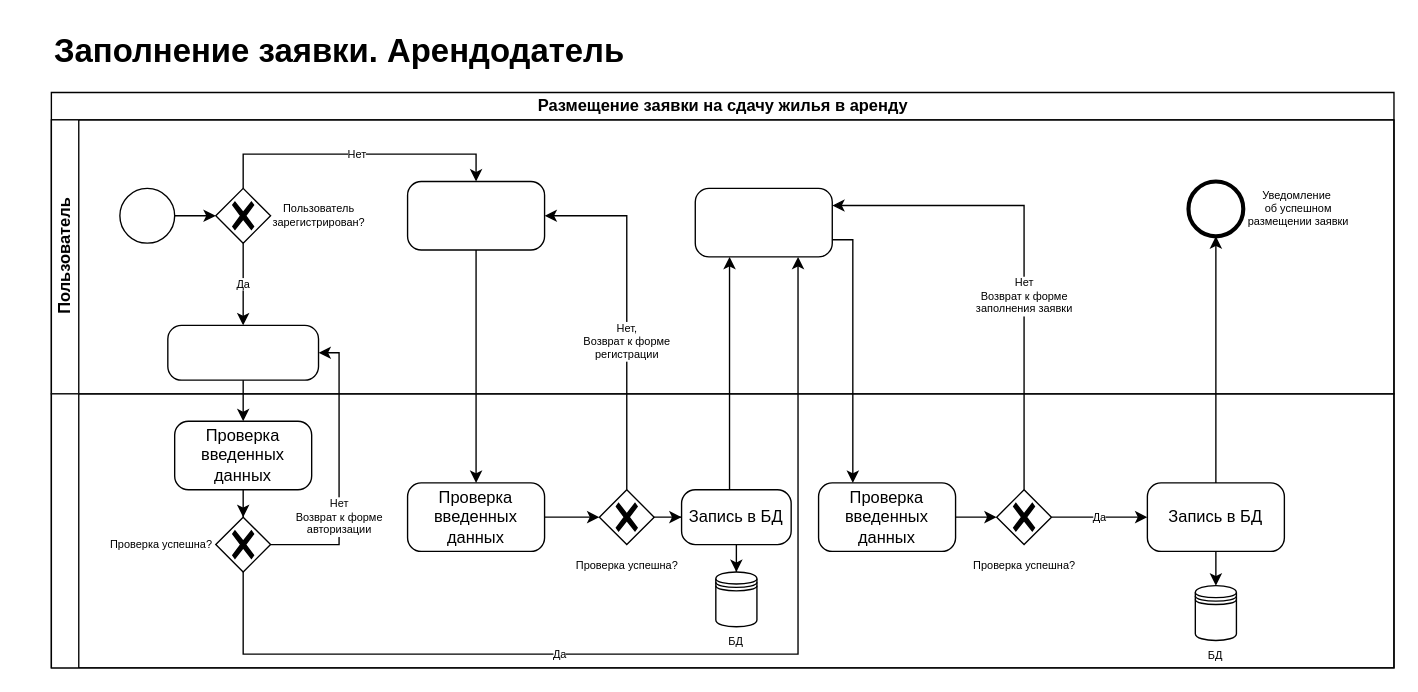
Some shapes in this 1418 by 692 pixel diagram are drawn without their labels. The shapes that lost their labels are listed below. From the top down, each one's box as (x1, y1, x2, y2) in pixels, then its label:
(119, 187, 175, 243): Пользователь решил оставить заявку в сервисе
(406, 180, 545, 250): Регистрация
(694, 187, 832, 257): Заполнение полей заявки
(166, 324, 319, 380): Авторизация
(50, 393, 1394, 668): Система
